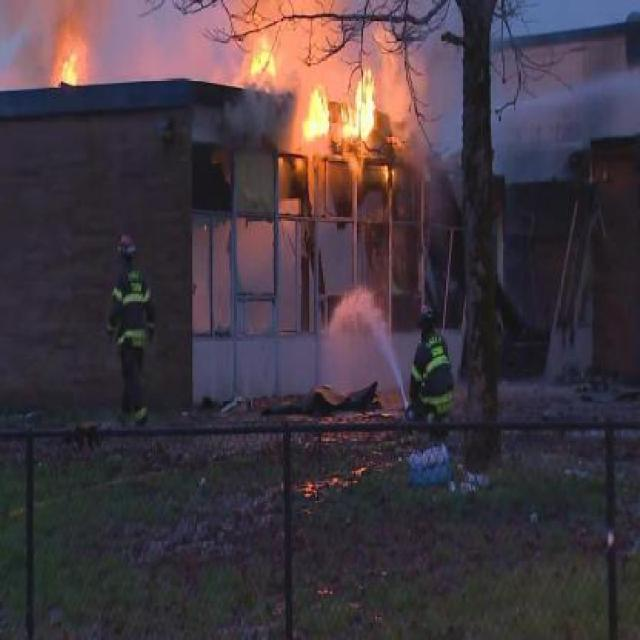Fire: (54, 23, 88, 91), (354, 68, 376, 138), (304, 91, 332, 140), (338, 102, 354, 144), (252, 50, 276, 76), (62, 59, 76, 81)
